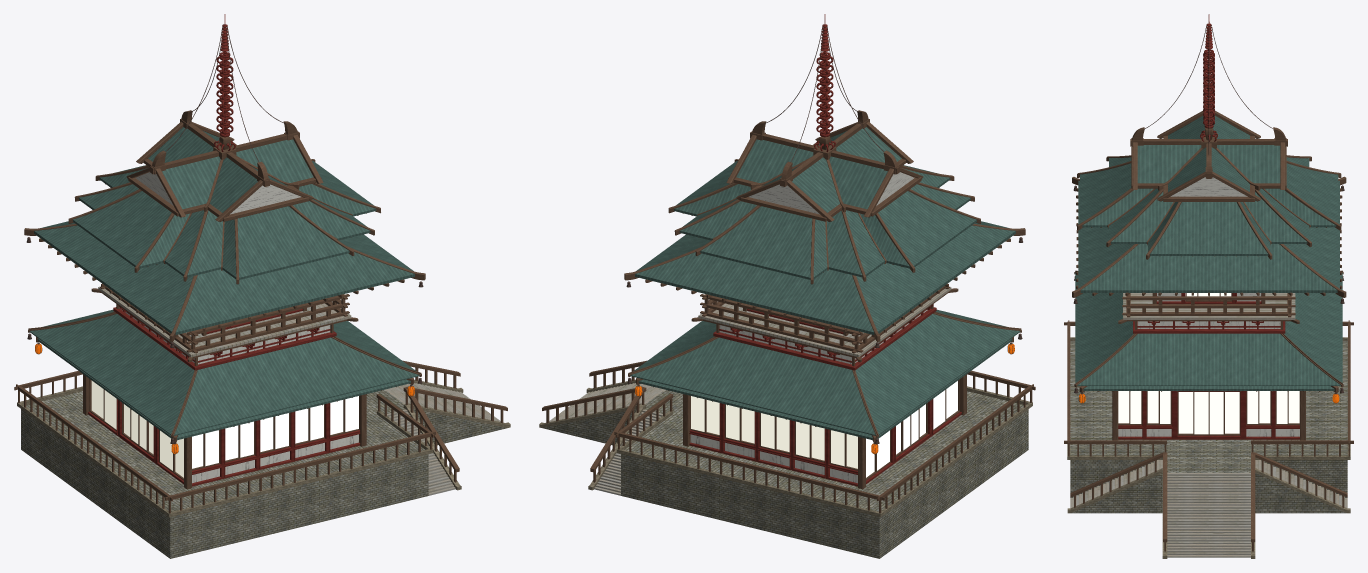
File: japanese_castle.glb
3 renders of one model, left to right at view 1: azimuth 30°, elevation 25°; view 2: azimuth 150°, elevation 25°; view 3: azimuth 270°, elevation 25°, orthographic. The views are drawn at different scales.
Visible parts, largest first — view 1: 2F base.010_roof_0, base_base cobblestone_0, 2F base.013_painted wood support_0, 1F_red wood_0, 1F.001_brick shoji_0, 2F base.015_floor plank wood_0, railing_conrete_0, 2F base.006_white painted wod_0, BezierCurve_metal_0; view 2: 2F base.010_roof_0, base_base cobblestone_0, 2F base.013_painted wood support_0, 1F_red wood_0, 1F.001_brick shoji_0, 2F base.015_floor plank wood_0, railing_conrete_0, 2F base.006_white painted wod_0, BezierCurve_metal_0; view 3: 2F base.010_roof_0, 2F base.013_painted wood support_0, base_base cobblestone_0, 2F base.015_floor plank wood_0, 1F.001_brick shoji_0, 1F_red wood_0, 2F base.006_white painted wod_0, railing_conrete_0, BezierCurve_metal_0.
Boxes of the visible parts, x1,y1,x2,y2 form: 2F base.010_roof_0: [29, 127, 419, 440]; base_base cobblestone_0: [21, 389, 507, 558]; 2F base.013_painted wood support_0: [14, 110, 507, 513]; 1F_red wood_0: [88, 14, 360, 486]; 1F.001_brick shoji_0: [91, 380, 358, 477]; 2F base.015_floor plank wood_0: [98, 286, 500, 495]; railing_conrete_0: [17, 379, 510, 517]; 2F base.006_white painted wod_0: [119, 172, 358, 483]; BezierCurve_metal_0: [26, 26, 423, 454]; 2F base.010_roof_0: [630, 127, 1020, 440]; base_base cobblestone_0: [542, 389, 1028, 558]; 2F base.013_painted wood support_0: [542, 110, 1035, 513]; 1F_red wood_0: [689, 14, 961, 486]; 1F.001_brick shoji_0: [691, 381, 957, 477]; 2F base.015_floor plank wood_0: [549, 286, 951, 495]; railing_conrete_0: [539, 379, 1032, 517]; 2F base.006_white painted wod_0: [690, 172, 927, 483]; BezierCurve_metal_0: [626, 26, 1022, 454]; 2F base.010_roof_0: [1075, 115, 1342, 390]; 2F base.013_painted wood support_0: [1064, 106, 1353, 551]; base_base cobblestone_0: [1070, 341, 1347, 533]; 2F base.015_floor plank wood_0: [1070, 293, 1347, 557]; 1F.001_brick shoji_0: [1118, 293, 1299, 434]; 1F_red wood_0: [1118, 14, 1299, 439]; 2F base.006_white painted wod_0: [1118, 177, 1299, 436]; railing_conrete_0: [1067, 337, 1350, 558]; BezierCurve_metal_0: [1073, 25, 1344, 403].
Size of the model in its own units: 3065 by 3392 by 2090.
11 materials, 8 textured.
